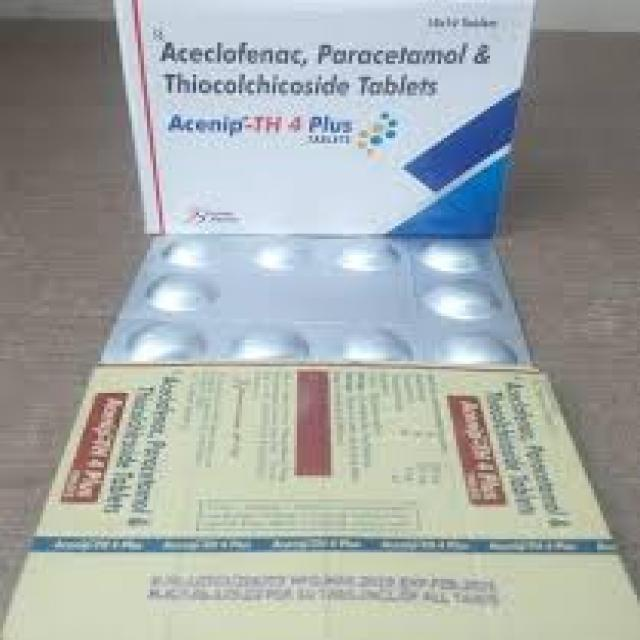authentic: (0, 358, 640, 640), (101, 0, 536, 242), (90, 223, 552, 371)
